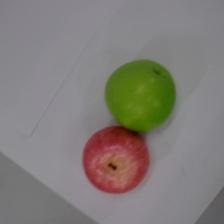green: (105, 59, 176, 131)
red: (83, 126, 150, 193)
